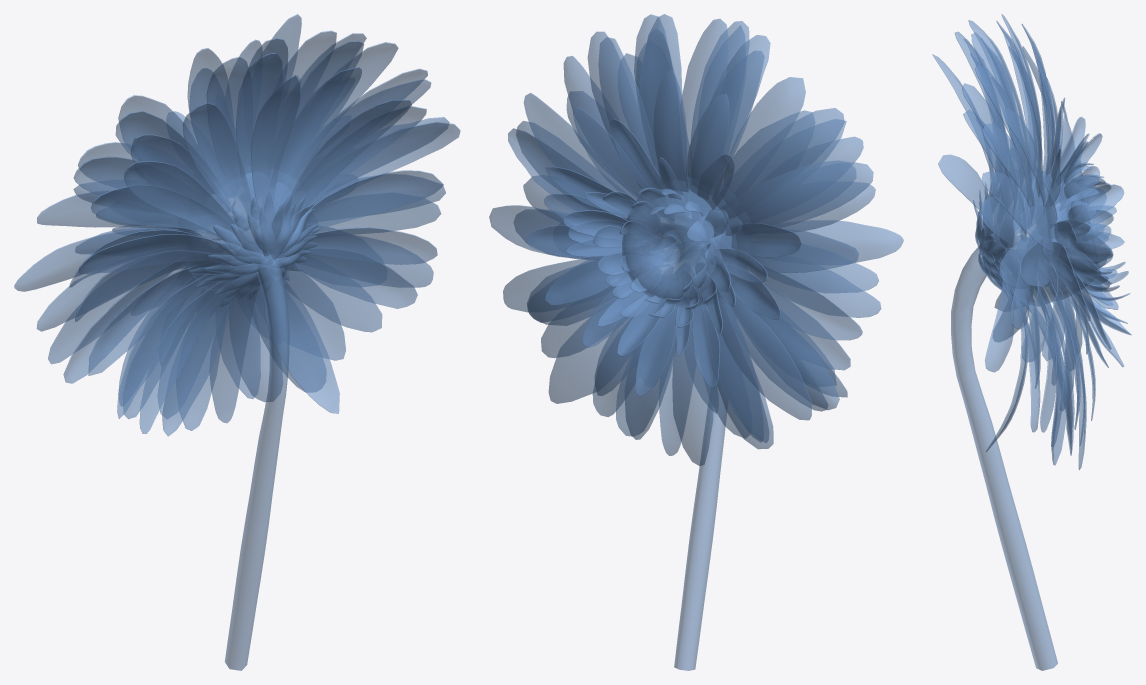
Rendered from shefla.glb.
3 views of the same model, side by side, from view 1: azimuth 30°, elevation 25°; view 2: azimuth 150°, elevation 25°; view 3: azimuth 270°, elevation 25° (orthographic). The views are drawn at different scales.
Visible parts, largest first — view 1: stem_mesh.001, stamen_mesh.001, petal_104_mesh.001, petal_094_mesh.001, petal_018_mesh.001, petal_024_mesh.001, petal_095_mesh.001, petal_109_mesh.001, petal_101_mesh.001, petal_015_mesh.001, petal_100_mesh.001, petal_098_mesh.001 (+46 smaller); view 2: stamen_mesh.001, stem_mesh.001, petal_078_mesh.001, petal_033_mesh.001, petal_035_mesh.001, petal_032_mesh.001, petal_030_mesh.001, petal_031_mesh.001, petal_029_mesh.001, petal_027_mesh.001, petal_014_mesh.001, petal_076_mesh.001 (+63 smaller); view 3: stem_mesh.001, stamen_mesh.001, petal_098_mesh.001, petal_102_mesh.001, petal_019_mesh.001, petal_020_mesh.001, petal_024_mesh.001, petal_017_mesh.001, petal_028_mesh.001, petal_026_mesh.001, petal_022_mesh.001, petal_030_mesh.001 (+58 smaller).
Part boxes in pixels (x1,y1,x2,y2): stem_mesh.001: (225,250,289,670); stamen_mesh.001: (174,166,307,290); petal_104_mesh.001: (263,277,339,413); petal_094_mesh.001: (182,102,252,222); petal_018_mesh.001: (236,53,282,199); petal_024_mesh.001: (271,40,363,176); petal_095_mesh.001: (124,161,240,242); petal_109_mesh.001: (162,292,236,436); petal_101_mesh.001: (270,66,361,213); petal_015_mesh.001: (306,192,441,237); petal_100_mesh.001: (303,170,443,231); petal_098_mesh.001: (285,99,411,217); stamen_mesh.001: (622,177,737,307); stem_mesh.001: (674,235,726,670); petal_078_mesh.001: (714,289,812,420); petal_033_mesh.001: (706,110,815,217); petal_035_mesh.001: (721,160,856,231); petal_032_mesh.001: (738,162,873,228); petal_030_mesh.001: (723,108,844,215); petal_031_mesh.001: (691,50,764,196); petal_029_mesh.001: (639,28,685,181); petal_027_mesh.001: (598,37,664,206); petal_014_mesh.001: (548,275,665,403); petal_076_mesh.001: (733,261,862,340); stem_mesh.001: (951,234,1057,670); stamen_mesh.001: (986,169,1096,306); petal_098_mesh.001: (938,154,992,235); petal_102_mesh.001: (985,270,1013,372); petal_019_mesh.001: (982,123,1034,223); petal_020_mesh.001: (975,64,1031,209); petal_024_mesh.001: (962,83,1017,219); petal_017_mesh.001: (999,237,1038,288); petal_028_mesh.001: (968,20,1030,200); petal_026_mesh.001: (971,32,1024,194); petal_022_mesh.001: (981,171,1026,240); petal_030_mesh.001: (996,21,1037,205).
Size of the model in its own units: 3.08 by 4.69 by 1.33.
Materials: 1 (1 with a texture image).
